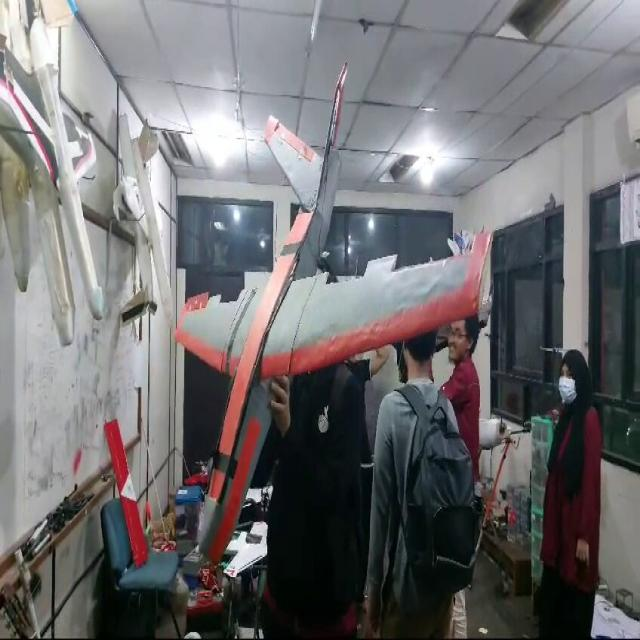plane: (172, 59, 493, 569)
